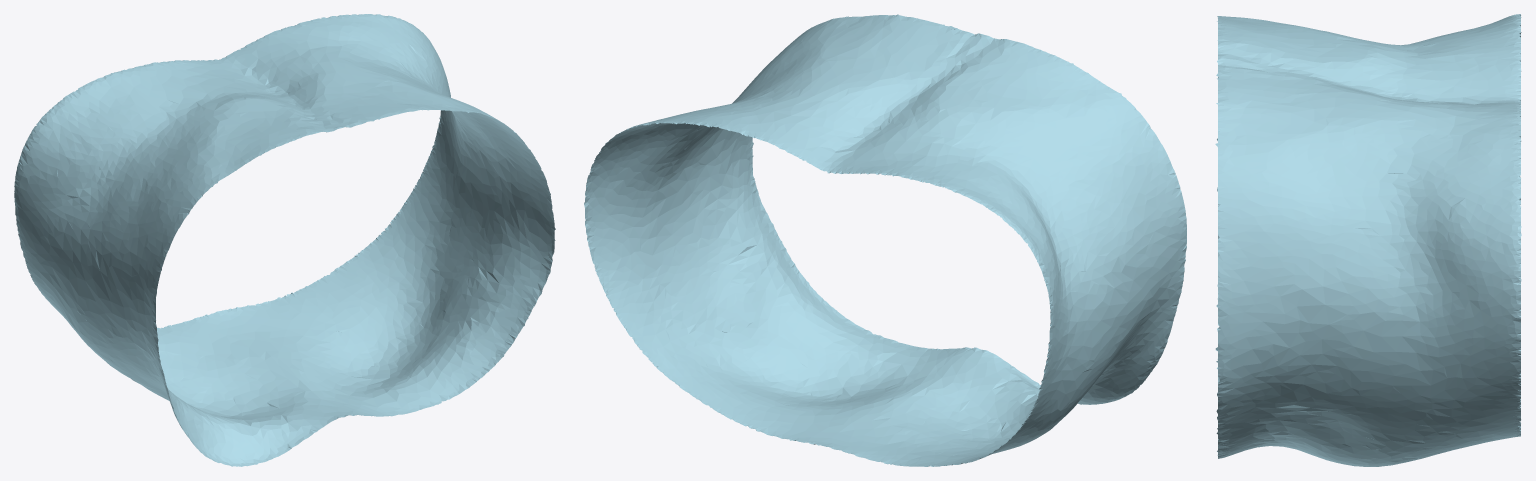
The model's file is skin.obj.
3 renders of one model, left to right at view 1: azimuth 30°, elevation 25°; view 2: azimuth 150°, elevation 25°; view 3: azimuth 270°, elevation 25°, orthographic. The views are drawn at different scales.
Parts seen in each view (by area): view 1: grp1; view 2: grp1; view 3: grp1.
Boxes of the visible parts, bbox=[...] form: grp1: bbox=[14, 14, 555, 466]; grp1: bbox=[584, 14, 1186, 466]; grp1: bbox=[1215, 14, 1521, 466].
Size of the model in its own units: 329 by 232 by 180.
